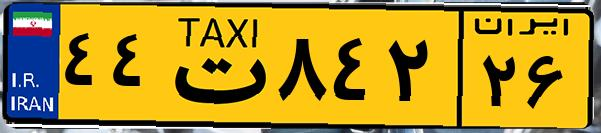2: (385, 28, 445, 110), (475, 38, 525, 113)
4: (330, 28, 385, 110), (57, 26, 110, 100), (110, 28, 158, 98)
6: (525, 38, 570, 115)
8: (270, 28, 330, 110)
ت: (158, 12, 270, 120)
